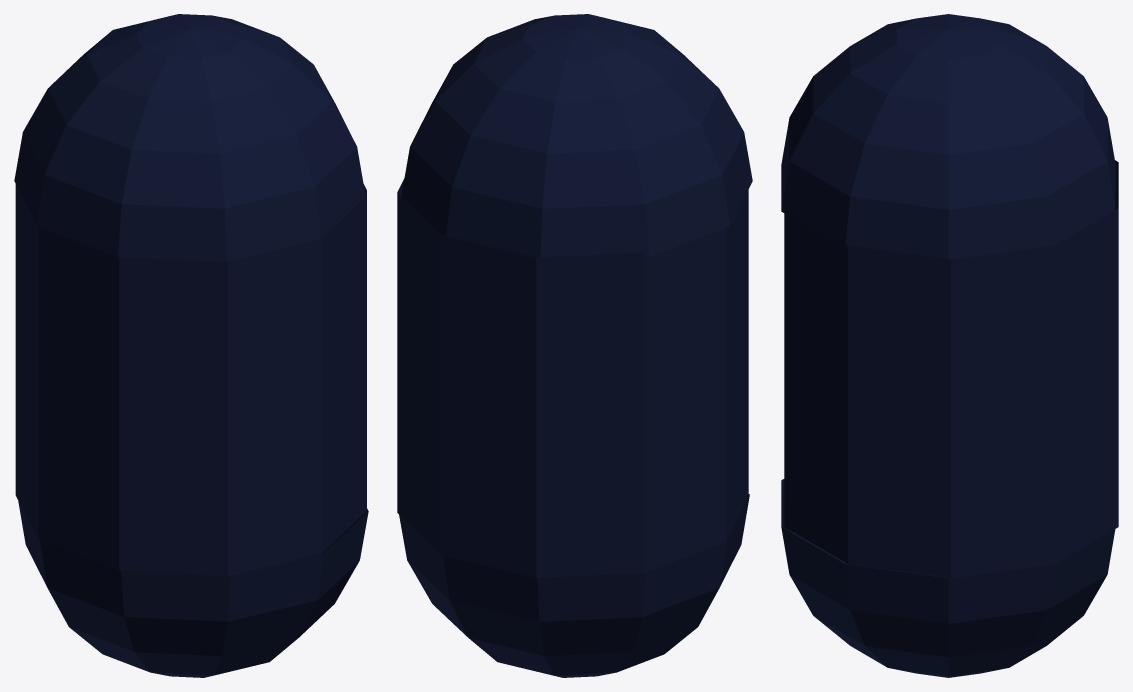
The model's file is rounded.obj.
The picture shows the model from 3 angles, left to right: view 1: azimuth 30°, elevation 25°; view 2: azimuth 150°, elevation 25°; view 3: azimuth 270°, elevation 25°; orthographic projection.
Parts seen in each view (by area): view 1: pCylinder1, pSphere1, pasted__pSphere1 group; view 2: pCylinder1, pSphere1, pasted__pSphere1 group; view 3: pCylinder1, pSphere1, pasted__pSphere1 group.
Part boxes in pixels (x1,y1,x2,y2): pCylinder1: [15, 184, 366, 575]; pSphere1: [14, 14, 365, 261]; pasted__pSphere1 group: [18, 501, 368, 677]; pCylinder1: [397, 178, 748, 577]; pSphere1: [401, 14, 752, 257]; pasted__pSphere1 group: [399, 494, 749, 677]; pCylinder1: [784, 160, 1118, 578]; pSphere1: [781, 14, 1115, 259]; pasted__pSphere1 group: [781, 479, 1115, 677].
Size of the model in its own units: 1.01 by 1.98 by 0.9593.
